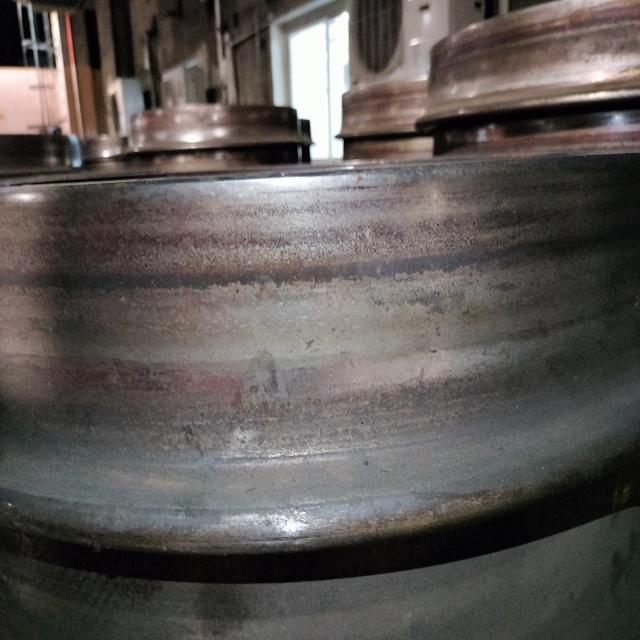Peeling: (177, 419, 211, 461)
Rollerpile: (250, 359, 282, 432)
